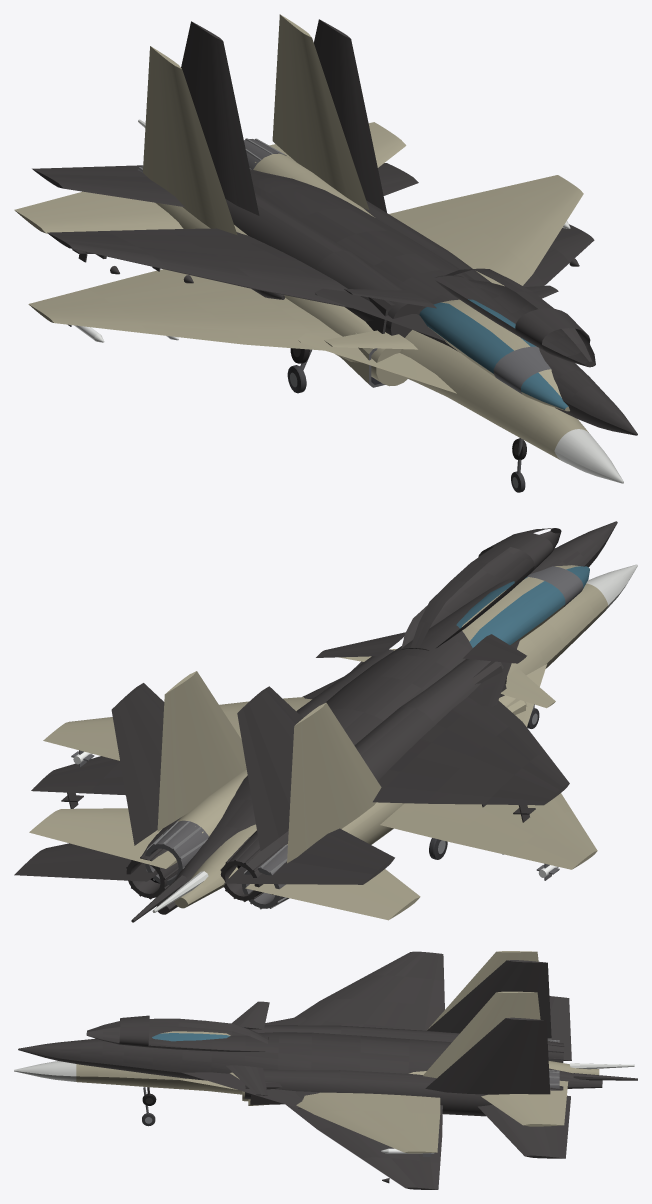
Rendered from jet__su_30mki.glb.
3 views of the same model, one above another, from view 1: azimuth 30°, elevation 25°; view 2: azimuth 150°, elevation 25°; view 3: azimuth 270°, elevation 25° (orthographic). The views are drawn at different scales.
Parts seen in each view (by area): view 1: Fuselage_Mesh, Wreck; view 2: Wreck, Fuselage_Mesh; view 3: Wreck, Fuselage_Mesh.
Boxes of the visible parts, left/top/right/bottom form: Fuselage_Mesh: left=14, top=14, right=623, bottom=492; Wreck: left=32, top=19, right=637, bottom=459; Wreck: left=14, top=521, right=617, bottom=922; Fuselage_Mesh: left=29, top=564, right=637, bottom=920; Wreck: left=18, top=951, right=637, bottom=1189; Fuselage_Mesh: left=14, top=951, right=634, bottom=1156.
Size of what is drawn, in the model's own units: 15.03 by 6.63 by 23.38.
